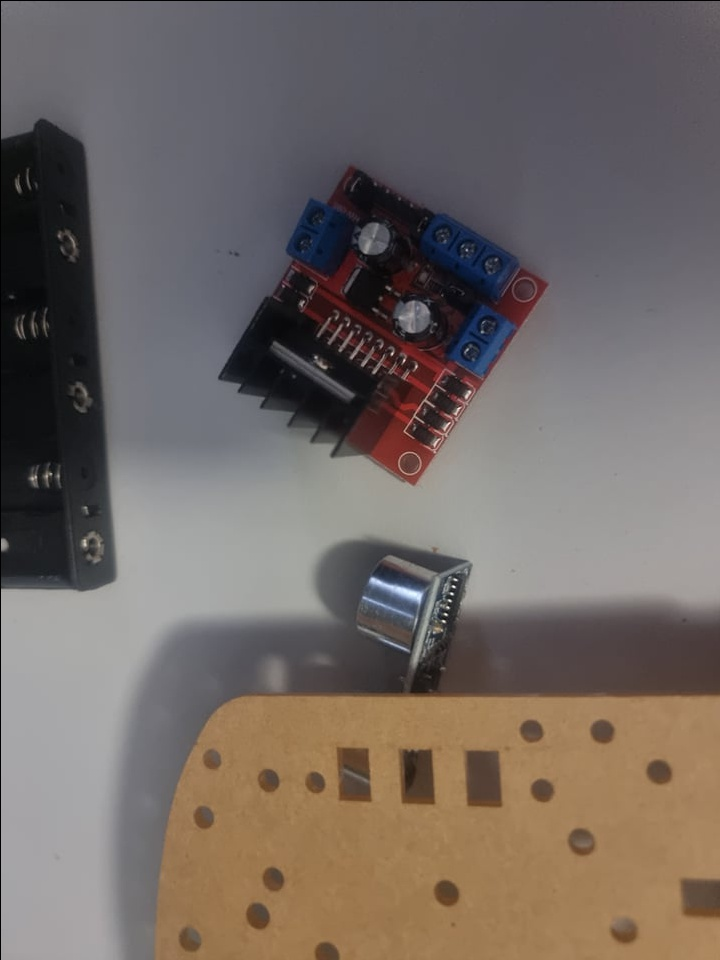BATTERY BOX: (0, 114, 122, 597)
MOTOR: (211, 157, 545, 485)
SENSOR: (331, 544, 482, 686)
